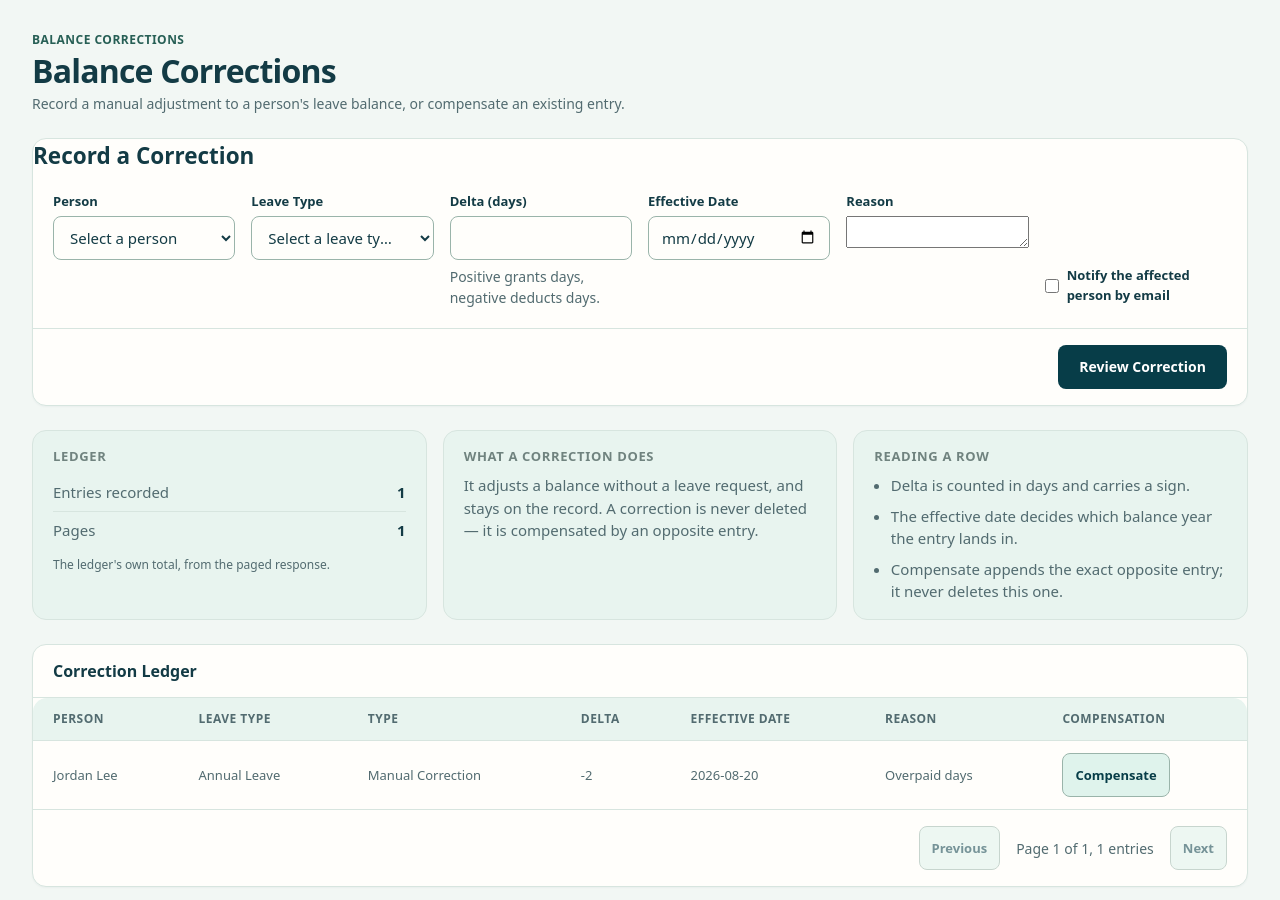
it: CorrectionsPage › does not claim "already compensated" for a network failure
Click the button with test id "correction-compensate-42". click: (1116, 775)
box: [1062,753,1170,797]
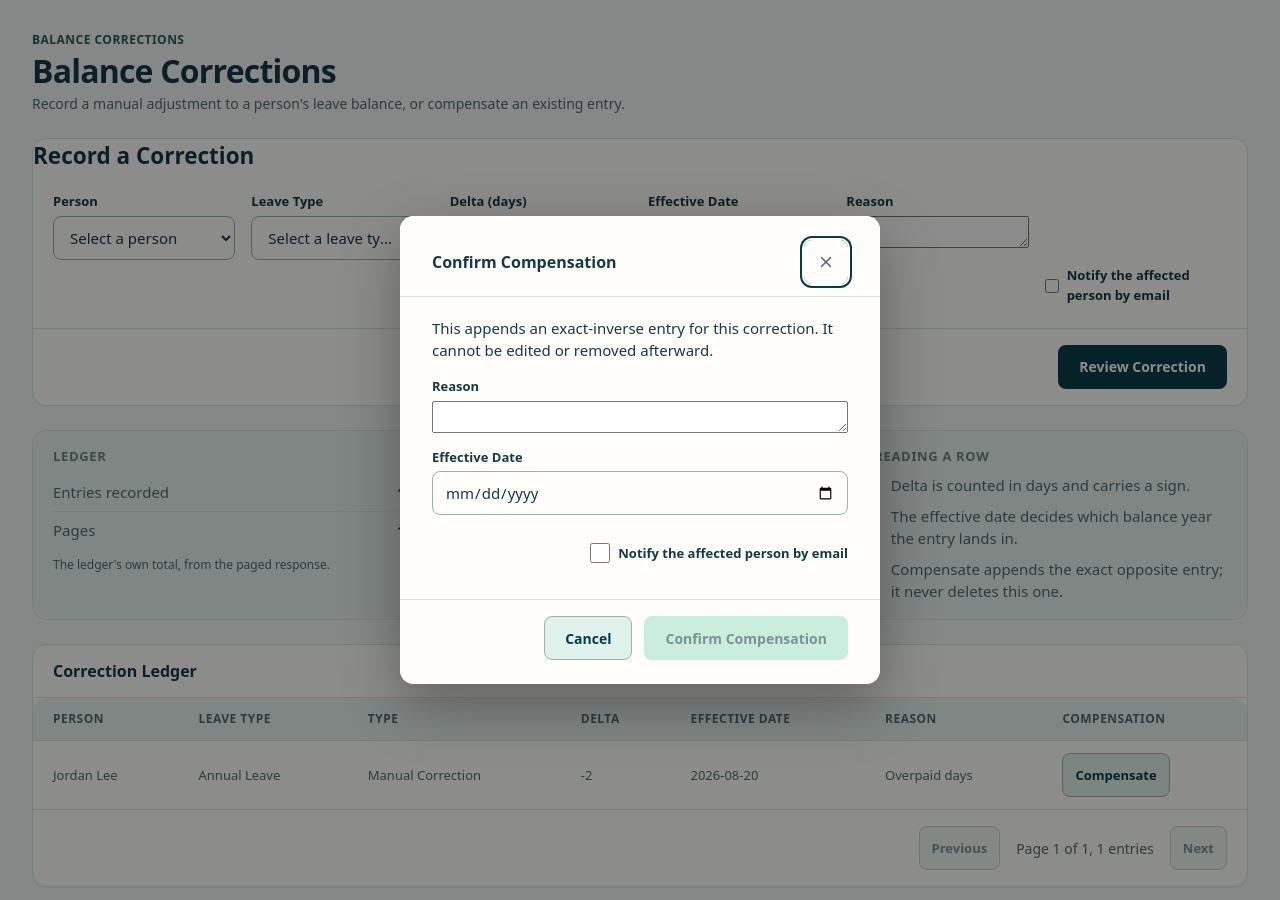
Type "Reversal" into the text box labelled "Reason". click: (640, 416)
box: [432,400,848,432]
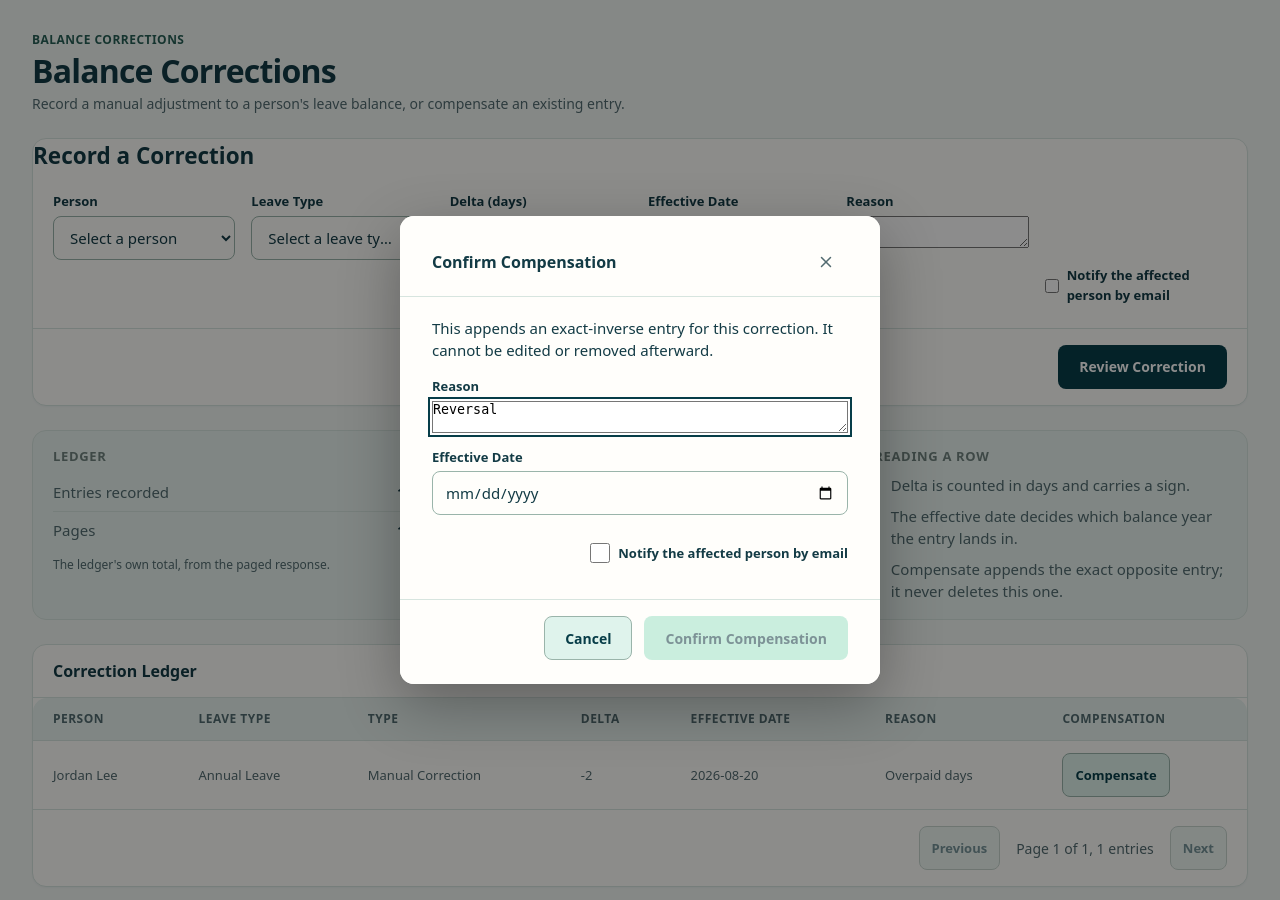
Type "2026-08-21" into the date field labelled "Effective Date". click: (640, 493)
box: [432,471,848,515]
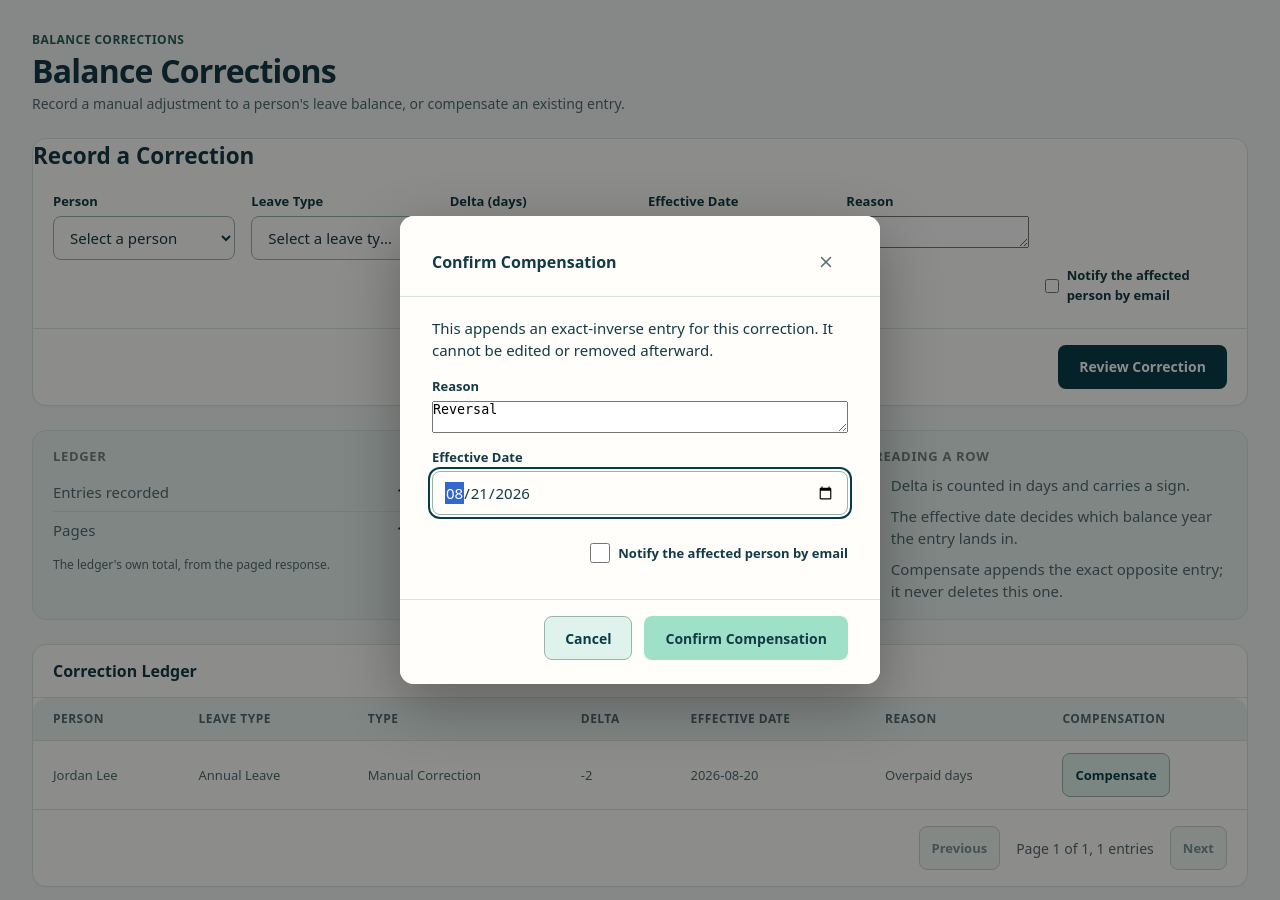
Click the button "Confirm Compensation". click: (746, 638)
box: [644,616,848,660]
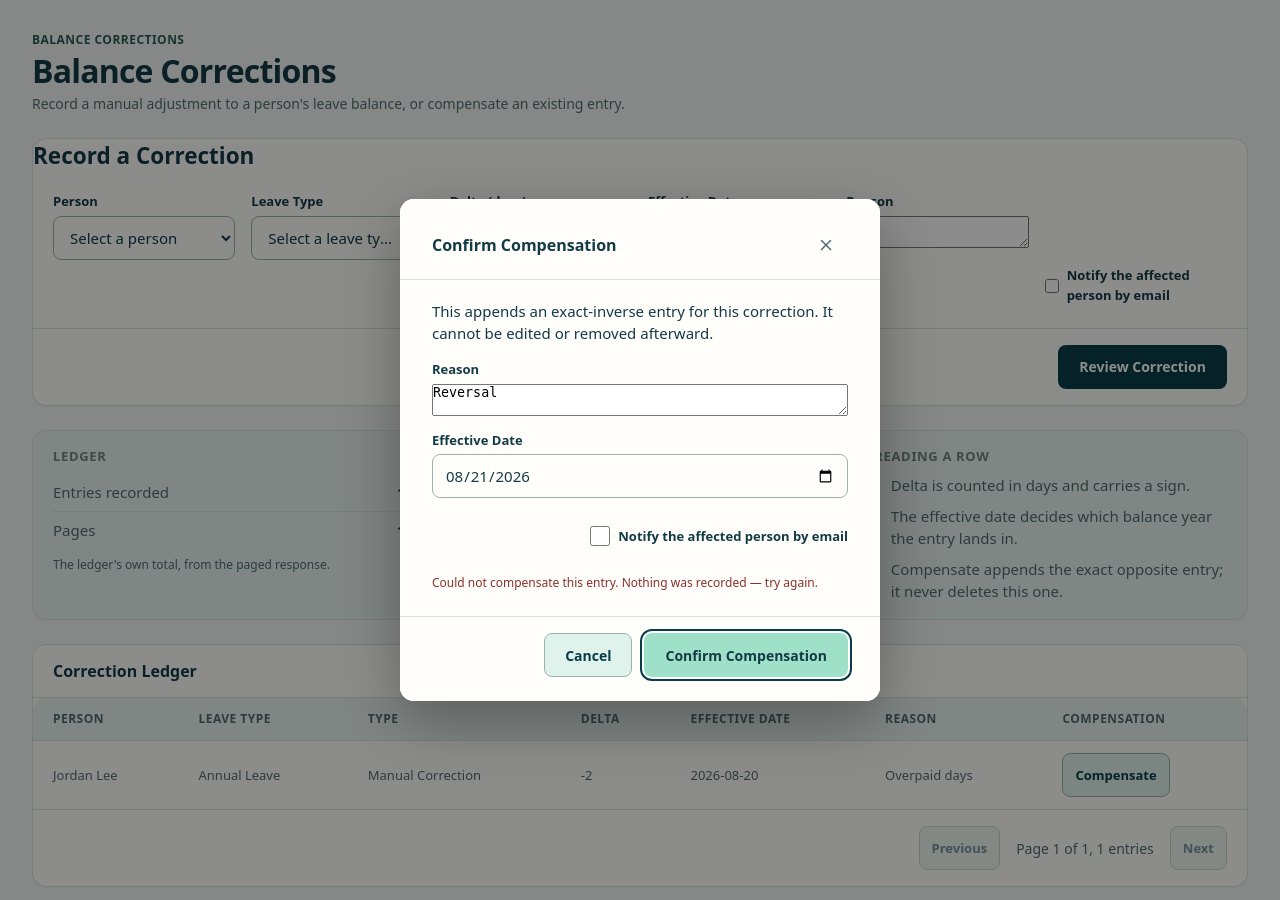
Expected: the text "Could not compensate this entry. Nothing was recorded — try again." is shown, [432,574,848,592]
